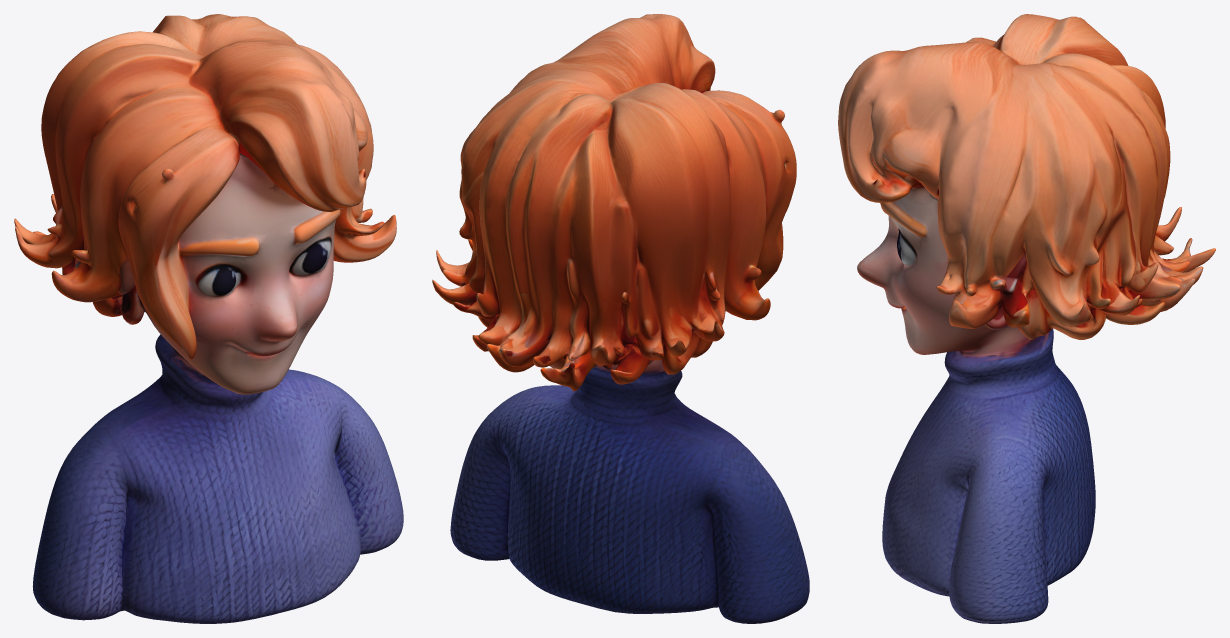
Rendered from ai_agent.glb.
3 views of the same model, side by side, from view 1: azimuth 30°, elevation 25°; view 2: azimuth 150°, elevation 25°; view 3: azimuth 270°, elevation 25° (orthographic). The views are drawn at different scales.
Parts seen in each view (by area): view 1: geometry_0; view 2: geometry_0; view 3: geometry_0.
Boxes of the visible parts, <box> form: geometry_0: <box>14,14,403,623</box>; geometry_0: <box>432,14,809,623</box>; geometry_0: <box>838,14,1215,623</box>.
Bounding box in the file's own units: 1.3 × 1.87 × 1.25.
1 material, 1 textured.
